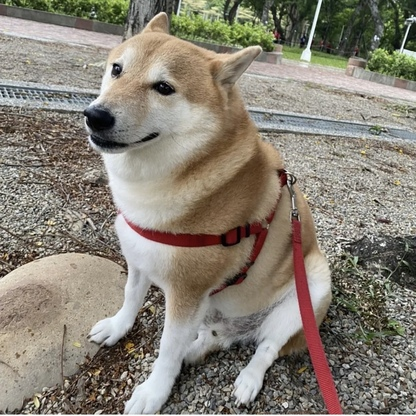akita: (73, 7, 341, 416)
